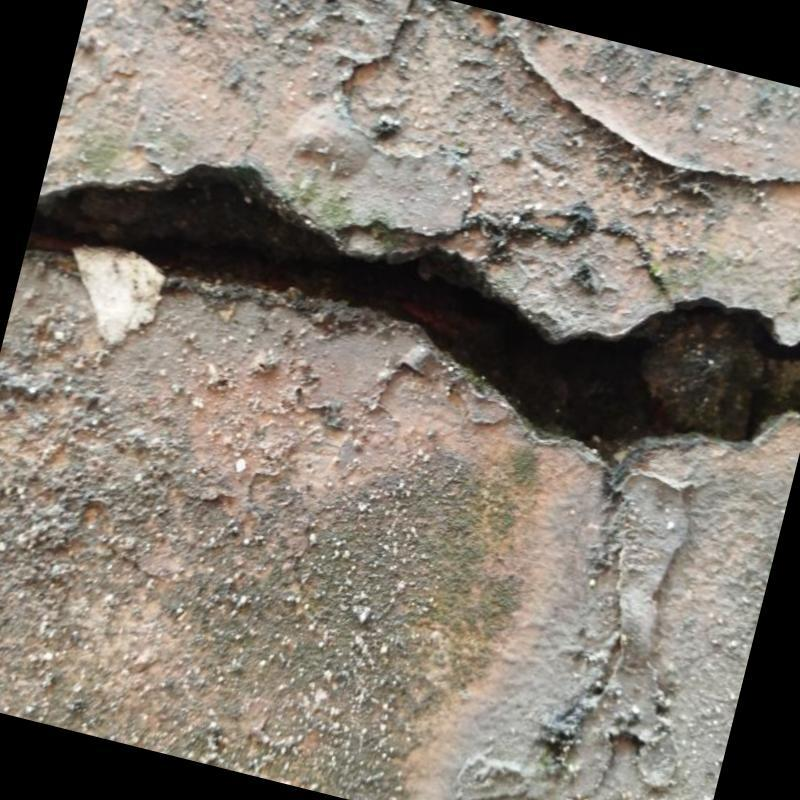crack: (26, 169, 800, 448)
